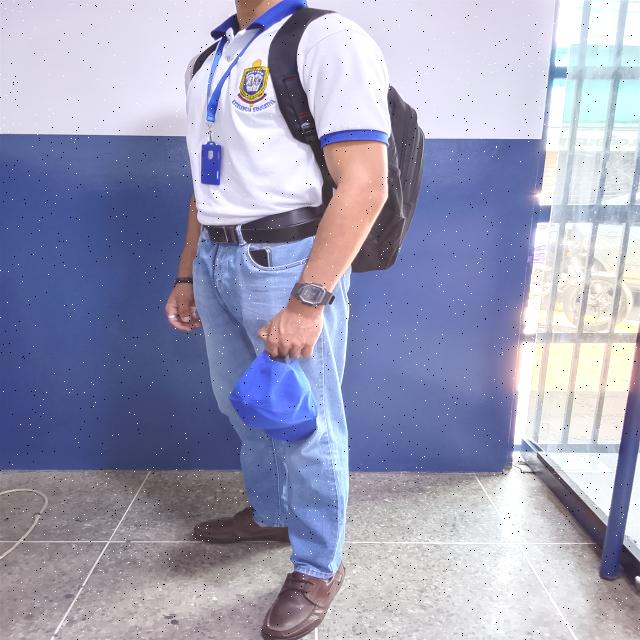carnet: (200, 144, 222, 186)
uniforme_superior: (183, 0, 391, 225)
